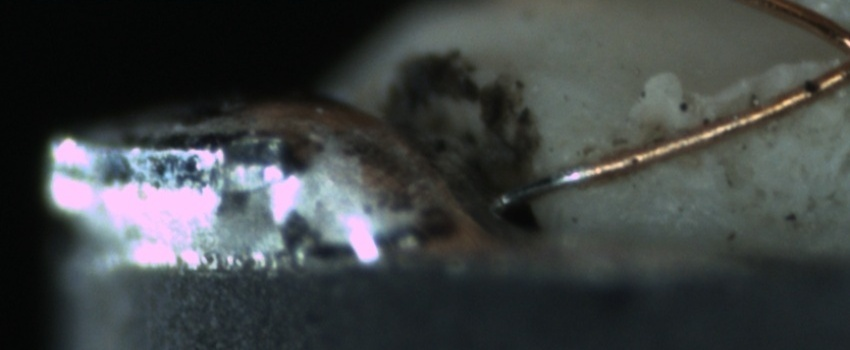CL: (810, 17, 850, 97)
TS: (498, 164, 587, 208)
